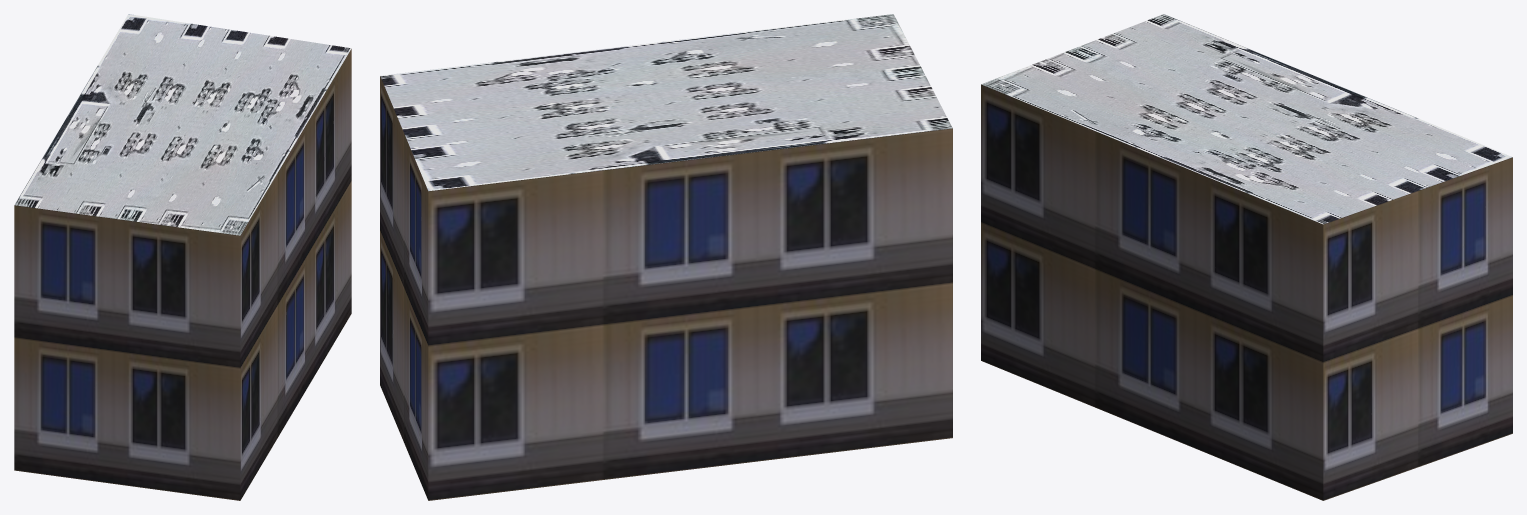
File: ResTex__17.fbx
3 renders of one model, left to right at view 1: azimuth 30°, elevation 25°; view 2: azimuth 150°, elevation 25°; view 3: azimuth 270°, elevation 25°, orthographic. The views are drawn at different scales.
Visible parts, largest first — view 1: CityEngineMaterial_5_m, CityEngineMaterial_8_m; view 2: CityEngineMaterial_5_m, CityEngineMaterial_8_m; view 3: CityEngineMaterial_5_m, CityEngineMaterial_8_m.
Boxes of the visible parts, x1,y1,x2,y2 form: CityEngineMaterial_5_m: (14,49,351,500); CityEngineMaterial_8_m: (14,14,351,235); CityEngineMaterial_5_m: (380,76,952,500); CityEngineMaterial_8_m: (380,14,952,191); CityEngineMaterial_5_m: (981,84,1512,500); CityEngineMaterial_8_m: (981,14,1512,224).
Size of the model in its own units: 9.8 by 6 by 10.46.
Materials: 2 (2 with a texture image).
